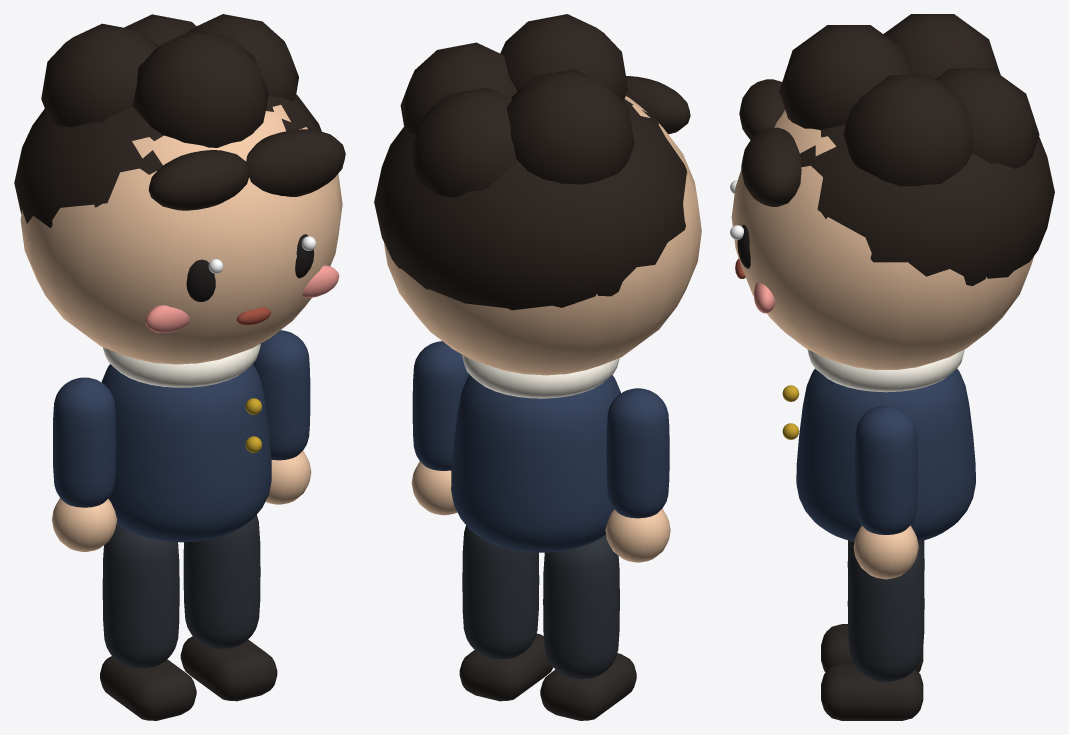
File: char_office.glb
3 views of the same model, side by side, from view 1: azimuth 30°, elevation 25°; view 2: azimuth 150°, elevation 25°; view 3: azimuth 270°, elevation 25° (orthographic).
Parts seen in each view (by area): view 1: head, body, legR, legL, armR, armL; view 2: head, body, legR, legL, armR, armL; view 3: head, body, legL, armL, legR.
Part boxes in pixels (x1,y1,x2,y2): head: (14, 14, 345, 364); body: (101, 344, 271, 542); legR: (100, 524, 196, 720); legL: (180, 515, 277, 701); armR: (52, 377, 117, 551); armL: (253, 330, 311, 504); head: (374, 14, 701, 375); body: (451, 355, 620, 552); legR: (540, 534, 636, 720); legL: (459, 525, 553, 701); armR: (605, 388, 670, 562); armL: (411, 341, 469, 515); head: (730, 14, 1054, 369); body: (782, 349, 975, 541); legL: (821, 543, 924, 720); armL: (853, 405, 918, 579); legR: (821, 540, 924, 671).
Size of the model in its own units: 0.6929 by 1.58 by 0.6992.
